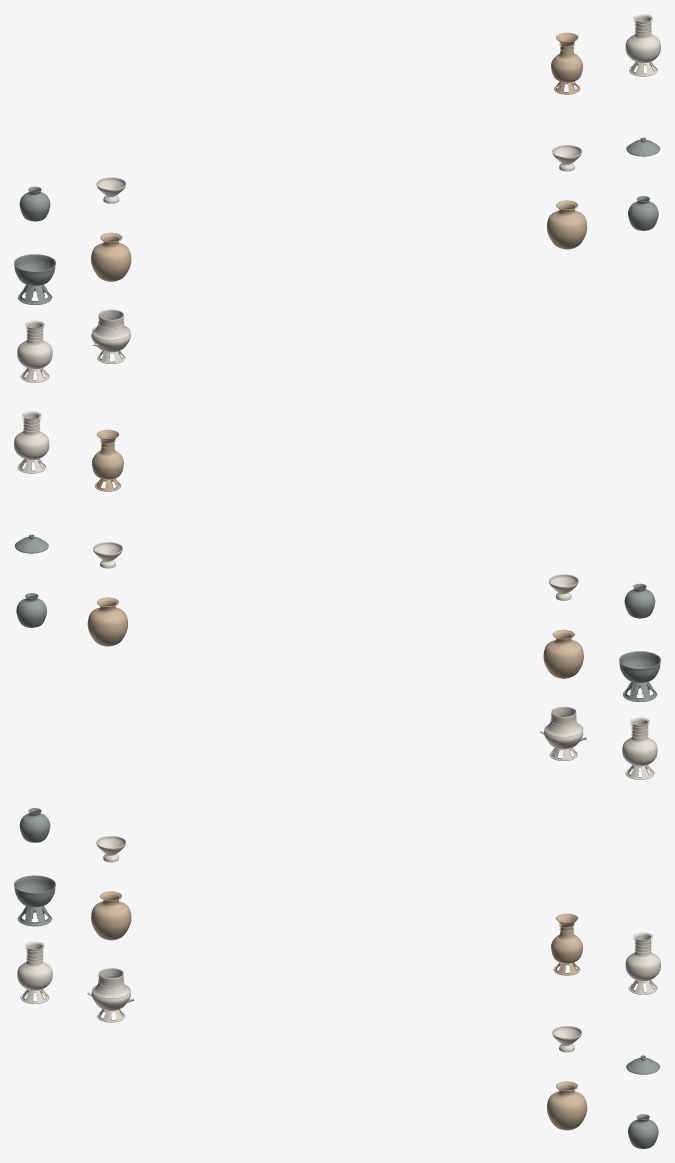
Rendered from studio-collection-v3.glb.
3 views of the same model, one above another, from view 1: azimuth 30°, elevation 25°; view 2: azimuth 150°, elevation 25°; view 3: azimuth 330°, elevation 25° (orthographic).
Visible parts, largest first — view 1: Hand thrown body with inner wall (×11); view 2: Hand thrown body with inner wall (×11); view 3: Hand thrown body with inner wall (×11).
Boxes of the visible parts, <box> form: Hand thrown body with inner wall (×11): <box>14,14,660,369</box>; Hand thrown body with inner wall (×11): <box>14,411,660,766</box>; Hand thrown body with inner wall (×11): <box>14,808,660,1148</box>.
Size of the model in its own units: 7.24 by 2.27 by 0.4095.
